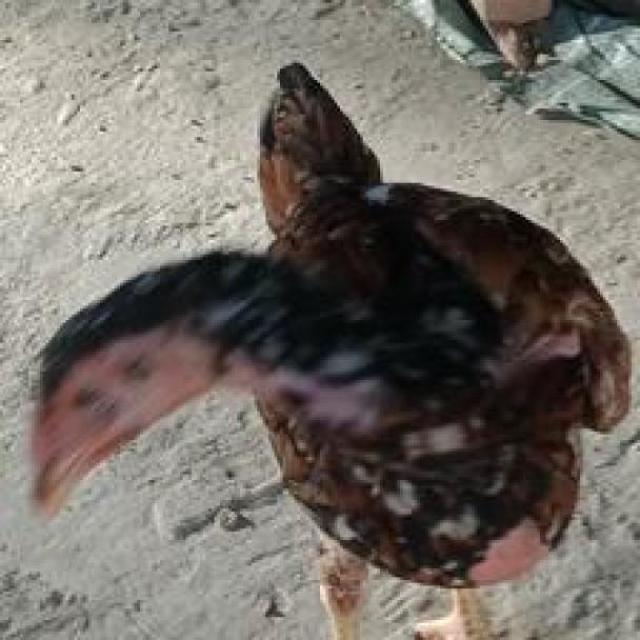Chicken: (6, 50, 639, 640)
